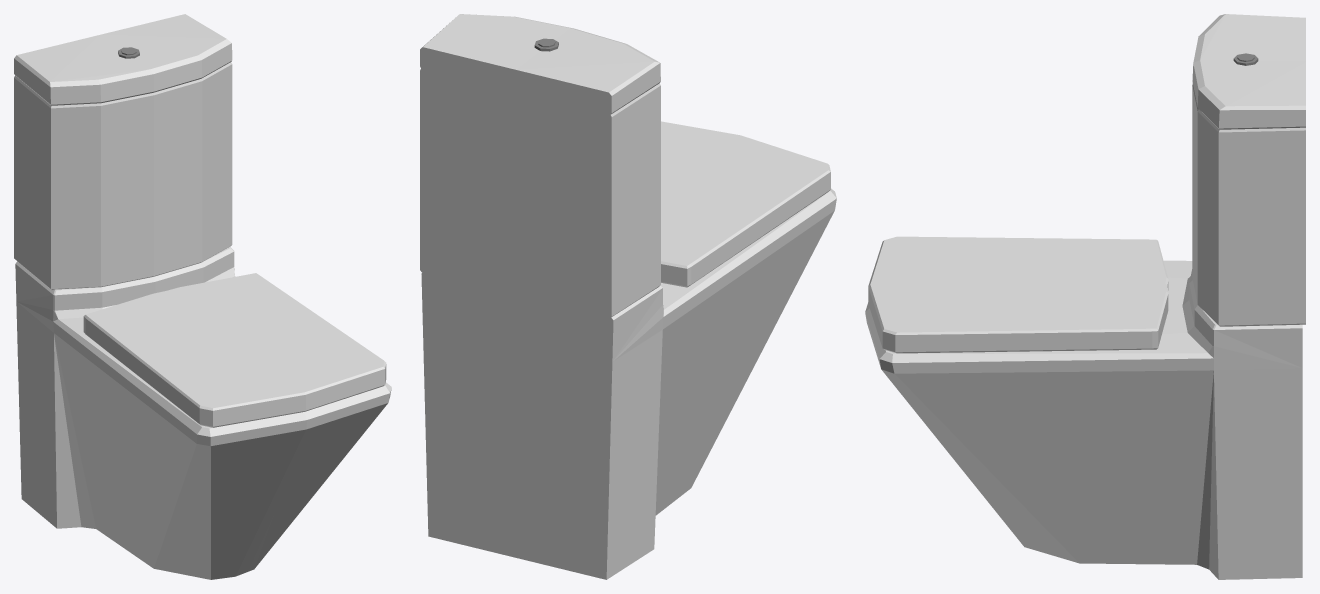
File: Commode.fbx
3 renders of one model, left to right at view 1: azimuth 30°, elevation 25°; view 2: azimuth 150°, elevation 25°; view 3: azimuth 270°, elevation 25°, orthographic. The views are drawn at different scales.
Parts seen in each view (by area): view 1: Commode; view 2: Commode; view 3: Commode.
Boxes of the visible parts, x1,y1,x2,y2 form: Commode: (14,14,391,579); Commode: (420,14,836,579); Commode: (865,14,1305,579).
Size of the model in its own units: 50.43 by 111 by 92.51.
